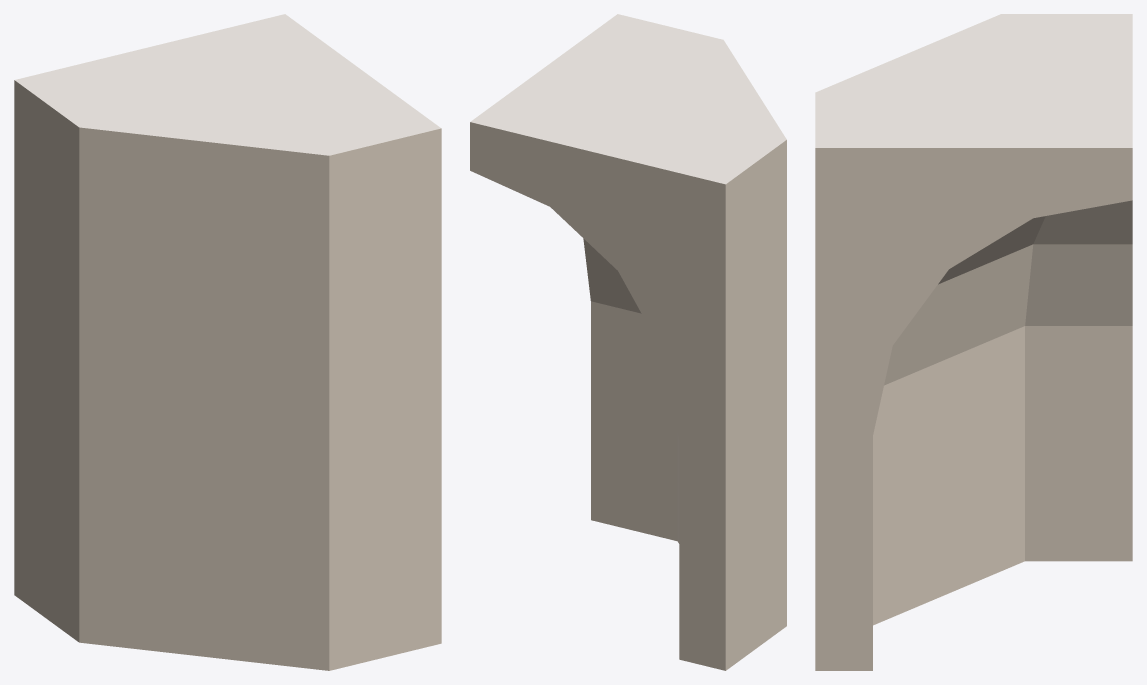
File: temple_Wall_Arch_Corner_Inner.glb
3 renders of one model, left to right at view 1: azimuth 30°, elevation 25°; view 2: azimuth 150°, elevation 25°; view 3: azimuth 270°, elevation 25°, orthographic. The views are drawn at different scales.
Parts seen in each view (by area): view 1: object1; view 2: object1; view 3: object1.
Boxes of the visible parts, x1,y1,x2,y2 form: object1: (14,14,441,670); object1: (470,14,786,670); object1: (815,14,1132,670).
Size of the model in its own units: 1.1 by 2 by 1.1.
